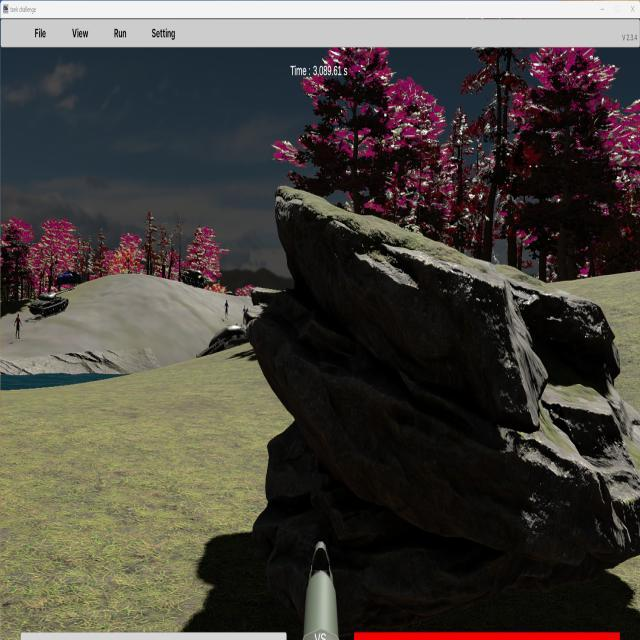Tank: (27, 286, 76, 318)
